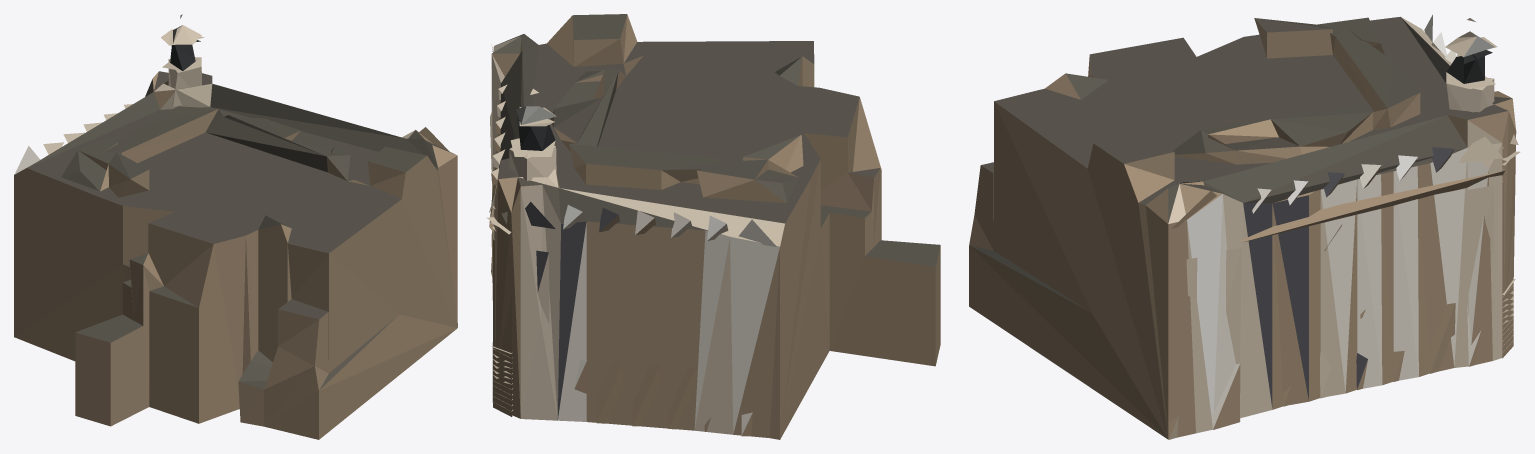
Rendered from lloyd-prins-hendrikkade-33.lod2.glb.
3 views of the same model, side by side, from view 1: azimuth 30°, elevation 25°; view 2: azimuth 150°, elevation 25°; view 3: azimuth 270°, elevation 25° (orthographic). The views are drawn at different scales.
Parts seen in each view (by area): view 1: lod2; view 2: lod2; view 3: lod2.
Part boxes in pixels (x1=…): lod2: x1=14, y1=14, x2=457, y2=439; lod2: x1=486, y1=14, x2=940, y2=439; lod2: x1=969, y1=14, x2=1520, y2=439.
Bounding box in the file's own units: 48.92 × 32.61 × 49.68.
